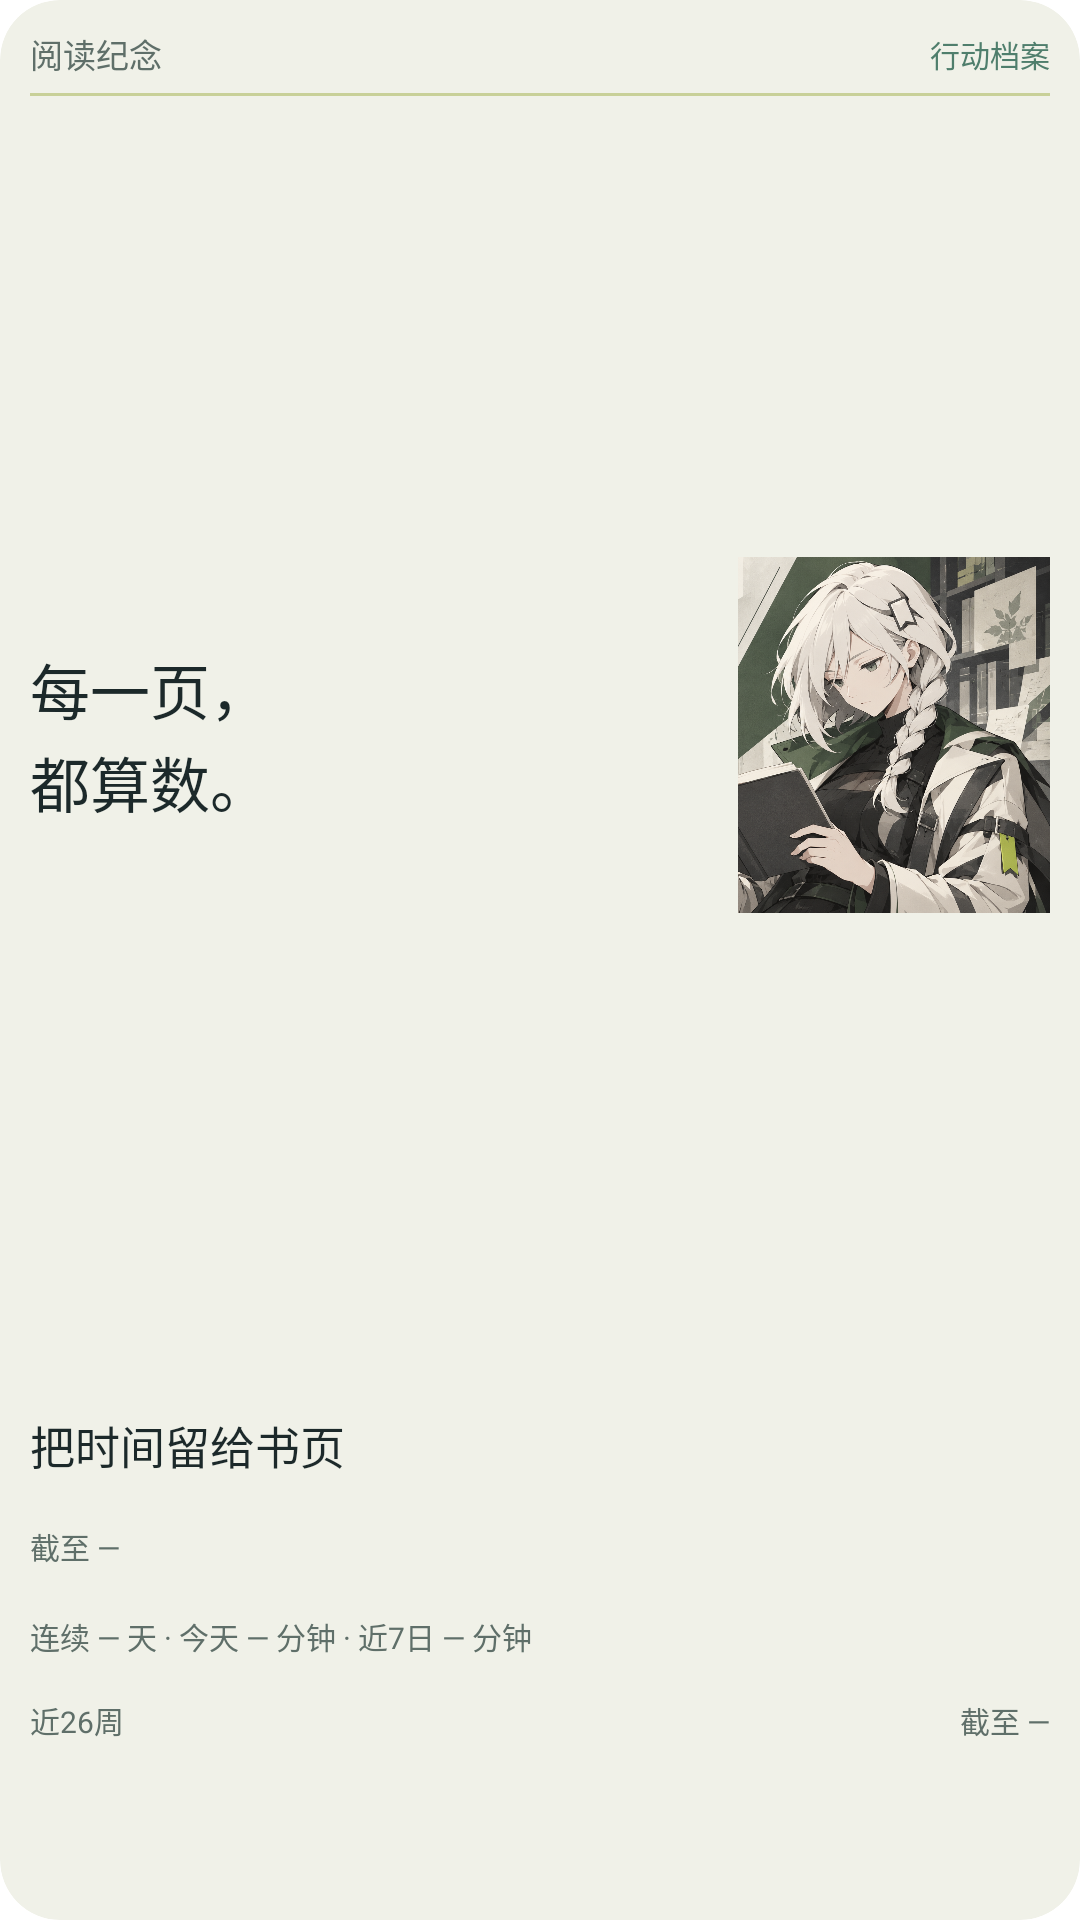

Where icons sit on this 1080x1920 app screen, as (x1, y1, x2, y2):
reading widget art signal: (738, 557, 1050, 913)
